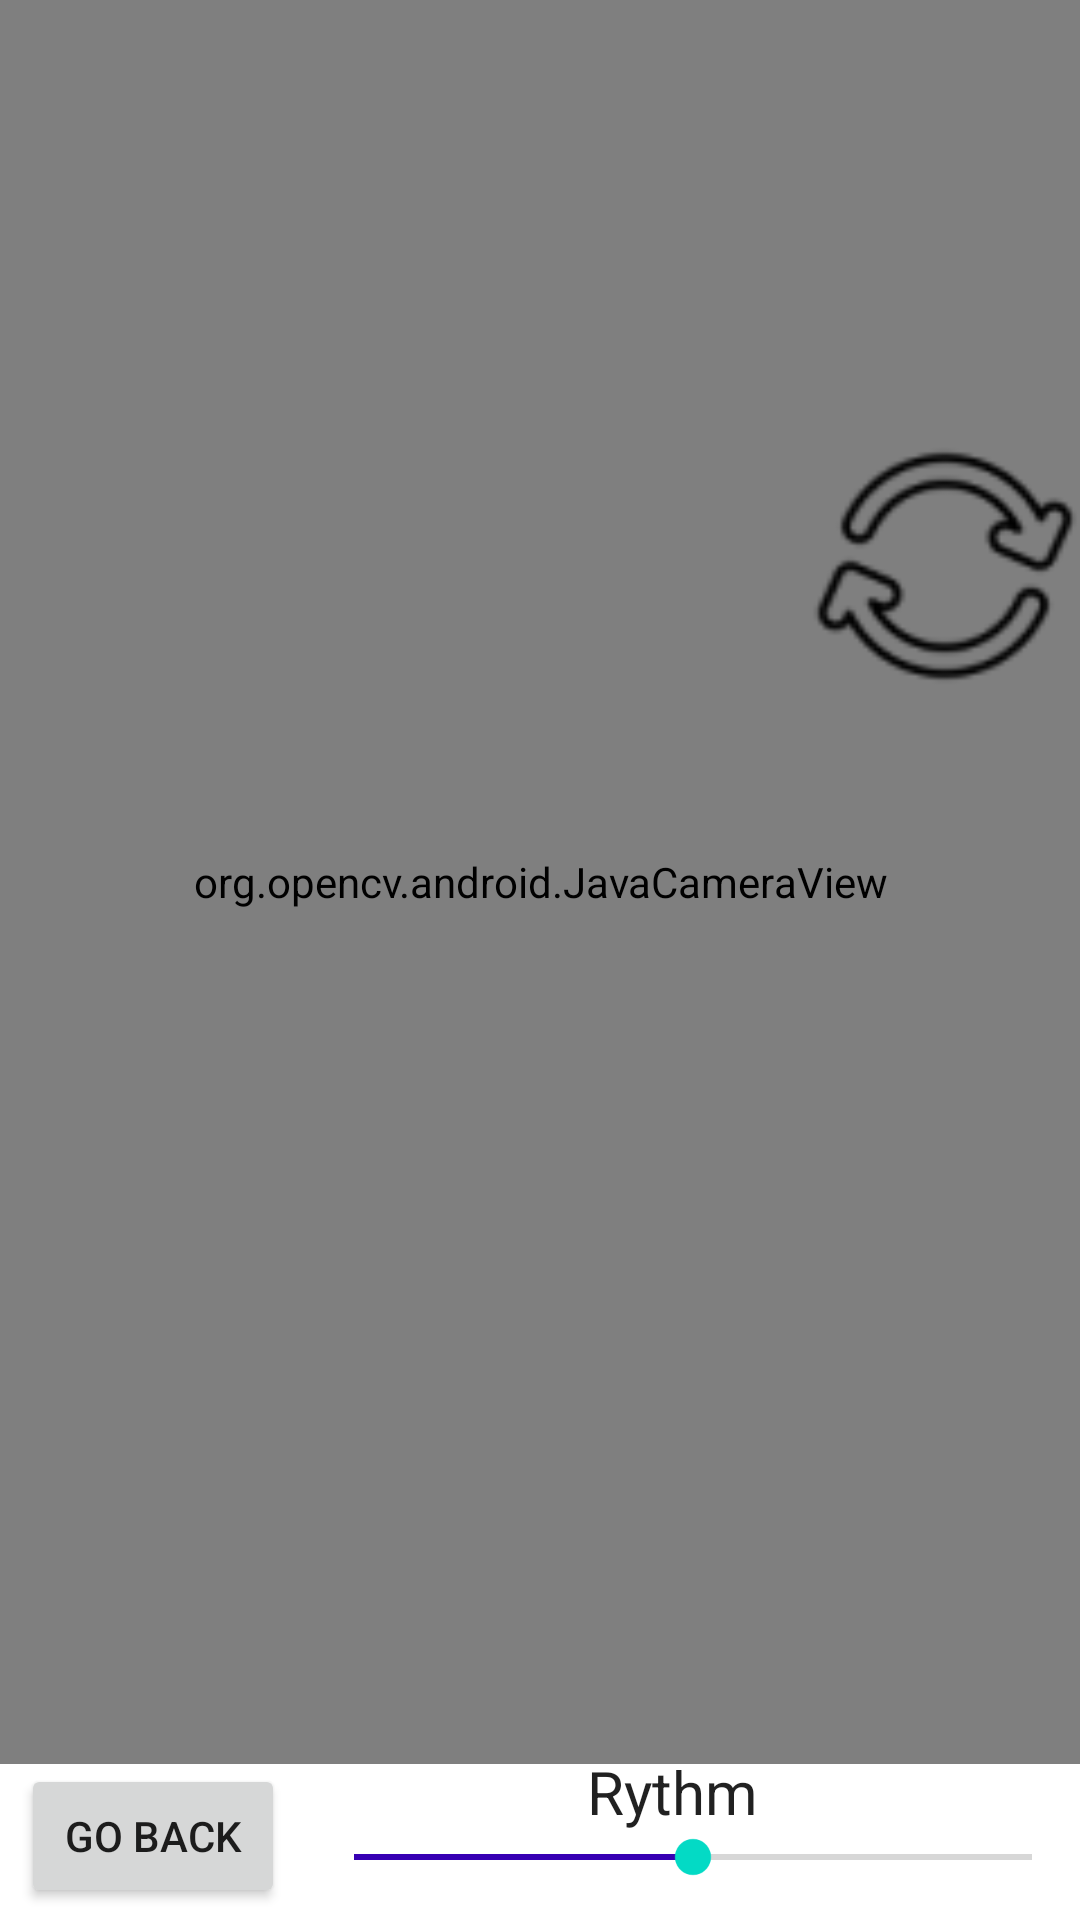

Icons on this 1080w x 1920h Android screen, each with the point to tap as [x,y]:
reload: [945,566]
